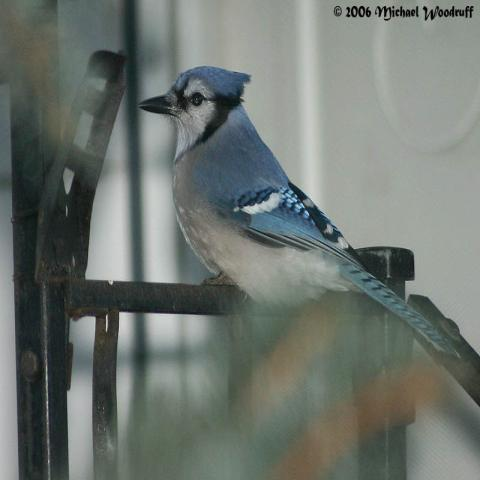small_animal: (136, 63, 478, 408)
